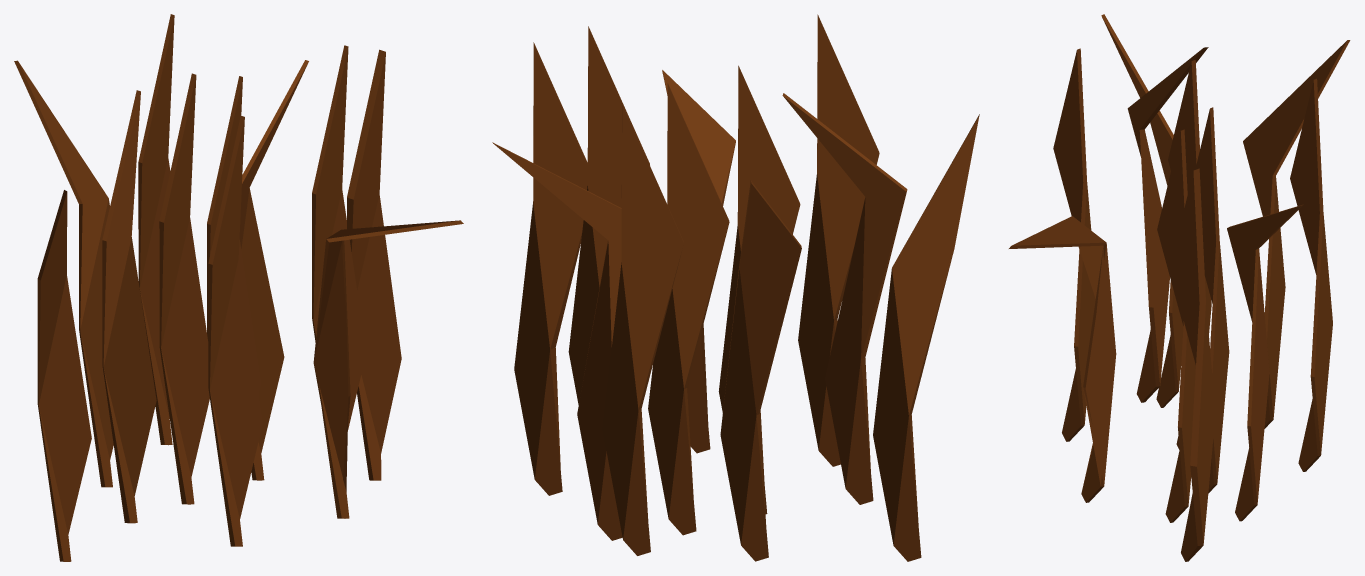
Rendered from WeedS .fbx.
3 views of the same model, side by side, from view 1: azimuth 30°, elevation 25°; view 2: azimuth 150°, elevation 25°; view 3: azimuth 270°, elevation 25° (orthographic). The views are drawn at different scales.
Parts seen in each view (by area): view 1: Plane.002, Plane, Plane.001, Plane.010, Plane.009, Plane.008, Plane.003, Plane.007, Plane.004, Plane.006, Plane.005; view 2: Plane.007, Plane.009, Plane.010, Plane.005, Plane.008, Plane.002, Plane.001, Plane.006, Plane.004, Plane, Plane.003; view 3: Plane.010, Plane.003, Plane.008, Plane.007, Plane.006, Plane.002, Plane.001, Plane.005, Plane.004, Plane.009, Plane.
Part boxes in pixels (x1,y1,x2,y2): Plane.002: [208, 116, 262, 546]; Plane: [159, 73, 209, 504]; Plane.001: [102, 90, 156, 523]; Plane.010: [347, 49, 401, 480]; Plane.009: [37, 190, 91, 561]; Plane.008: [14, 60, 113, 487]; Plane.003: [313, 220, 463, 518]; Plane.007: [138, 14, 174, 445]; Plane.004: [312, 45, 366, 431]; Plane.006: [239, 60, 308, 480]; Plane.005: [207, 76, 261, 393]; Plane.007: [602, 104, 683, 555]; Plane.009: [873, 114, 979, 561]; Plane.010: [514, 42, 587, 495]; Plane.005: [648, 83, 729, 535]; Plane.008: [720, 180, 801, 561]; Plane.002: [798, 14, 879, 466]; Plane.001: [782, 93, 907, 504]; Plane.006: [492, 142, 622, 540]; Plane.004: [568, 26, 649, 404]; Plane: [718, 65, 800, 514]; Plane.003: [662, 70, 735, 453]; Plane.010: [1170, 168, 1215, 561]; Plane.003: [1009, 216, 1116, 502]; Plane.008: [1243, 40, 1350, 428]; Plane.007: [1290, 78, 1332, 471]; Plane.006: [1227, 204, 1303, 521]; Plane.002: [1053, 48, 1095, 441]; Plane.001: [1127, 47, 1208, 402]; Plane.005: [1195, 107, 1229, 493]; Plane.004: [1157, 129, 1195, 522]; Plane.009: [1101, 14, 1183, 407]; Plane: [1168, 60, 1211, 449].
Size of the model in its own units: 1038 by 1164 by 850.
